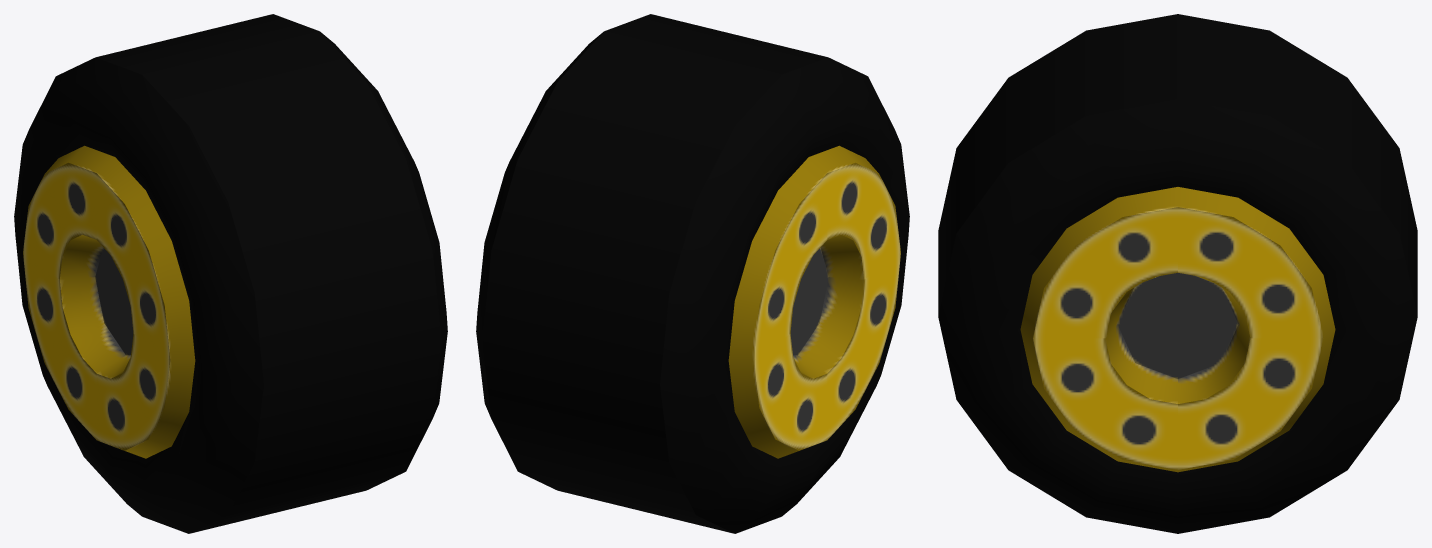
File: wheel_tiko.FBX
3 views of the same model, side by side, from view 1: azimuth 30°, elevation 25°; view 2: azimuth 150°, elevation 25°; view 3: azimuth 270°, elevation 25° (orthographic).
Parts seen in each view (by area): view 1: wheel_tiko; view 2: wheel_tiko; view 3: wheel_tiko.
Part boxes in pixels (x1,y1,x2,y2): wheel_tiko: (14,14,447,533); wheel_tiko: (476,14,909,533); wheel_tiko: (938,14,1417,533).
Bounding box in the file's own units: 0.067 × 0.1053 × 0.1053.
